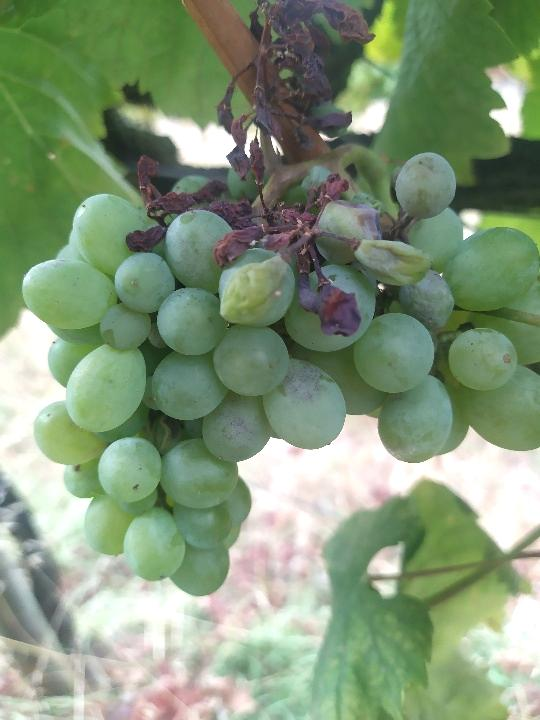grape: (18, 0, 540, 598)
